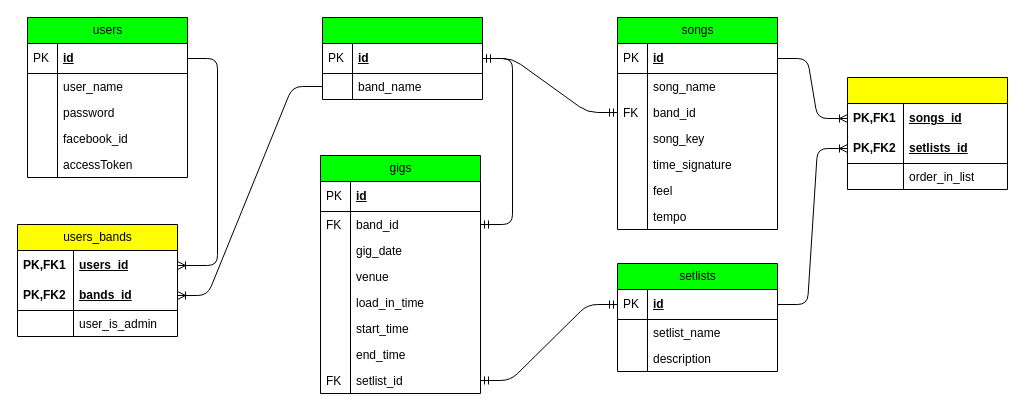
This 1025x414 diagram has some shape labels left out. Here are the shapes that lost their labels. From the top down, the box of each, then its label:
(322, 16, 482, 100): bands
(846, 76, 1008, 190): songs_setlists
